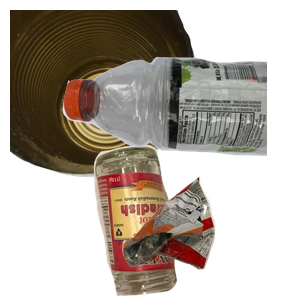glass: (91, 142, 260, 300)
metal: (10, 10, 200, 180)
plastic: (60, 53, 300, 201)
trash: (120, 174, 300, 300)
